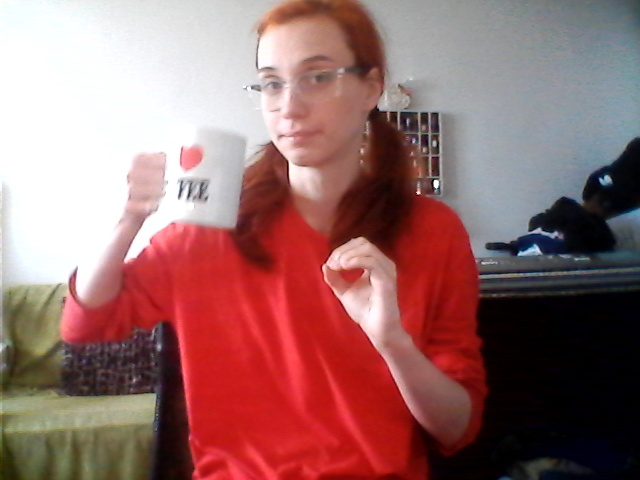o: (310, 231, 428, 355)
